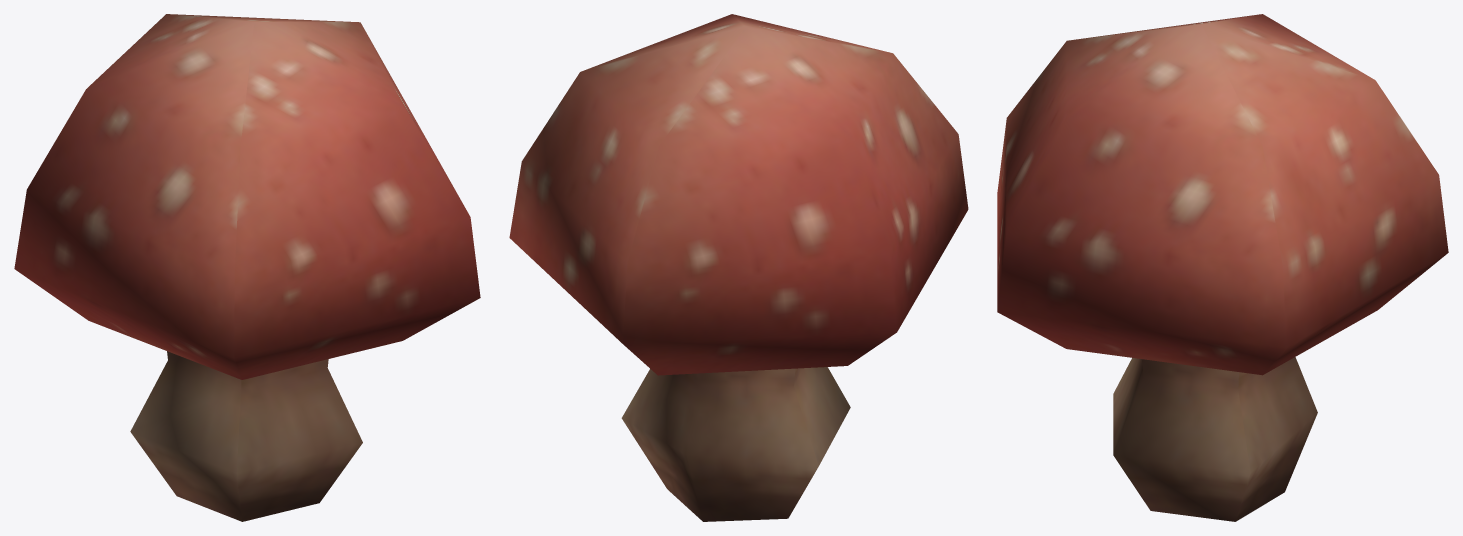
File: scene_shenmisenlin_zhiwu04.FBX
The picture shows the model from 3 angles, left to right: view 1: azimuth 30°, elevation 25°; view 2: azimuth 150°, elevation 25°; view 3: azimuth 270°, elevation 25°; orthographic projection.
Visible parts, largest first — view 1: scene_shenmisenlin_zhiwu04; view 2: scene_shenmisenlin_zhiwu04; view 3: scene_shenmisenlin_zhiwu04.
Part boxes in pixels (x1,y1,x2,y2): scene_shenmisenlin_zhiwu04: [14, 14, 480, 521]; scene_shenmisenlin_zhiwu04: [509, 14, 968, 521]; scene_shenmisenlin_zhiwu04: [997, 14, 1448, 521].
Bounding box in the file's own units: 41.96 × 48.06 × 42.08.
